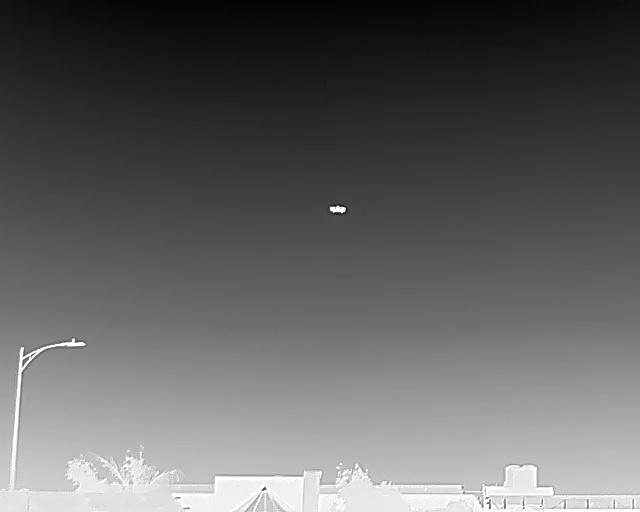fpv-drone: (328, 204, 347, 214)
